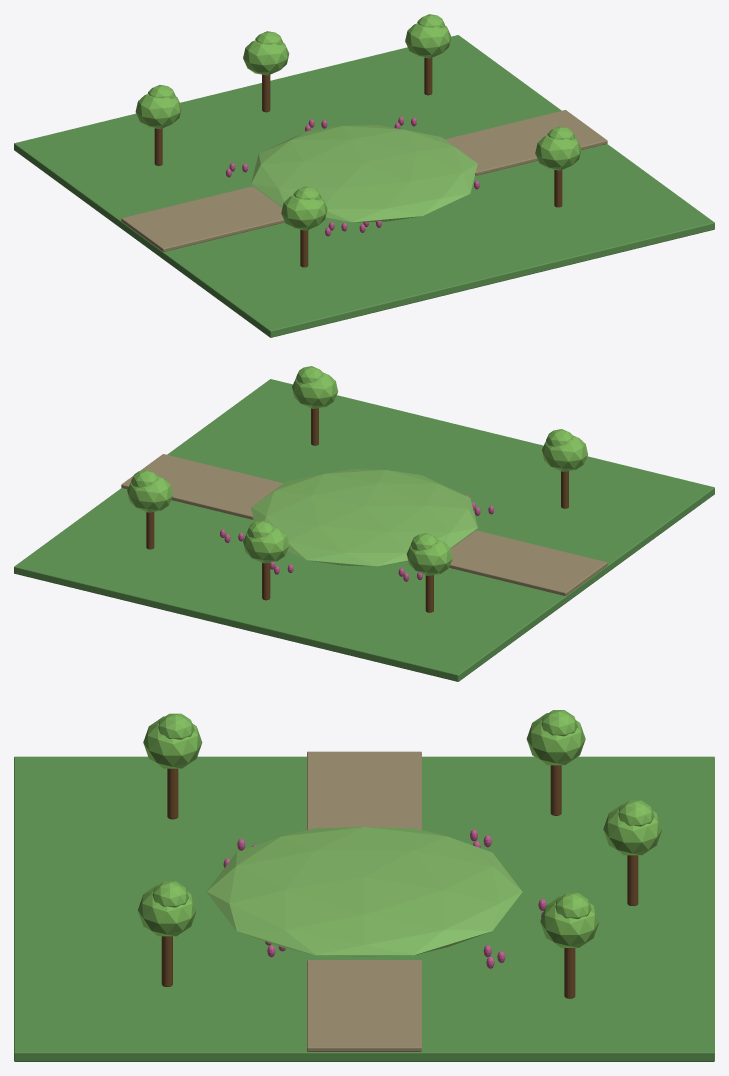
The model's file is chunk_meadow_b.fbx.
The picture shows the model from 3 angles, top to bottom: view 1: azimuth 30°, elevation 25°; view 2: azimuth 150°, elevation 25°; view 3: azimuth 270°, elevation 25°; orthographic projection. The views are drawn at different scales.
Parts seen in each view (by area): view 1: chunk_meadow_b; view 2: chunk_meadow_b; view 3: chunk_meadow_b.
Boxes of the visible parts, x1,y1,x2,y2 form: chunk_meadow_b: (14,14,714,337); chunk_meadow_b: (14,366,714,681); chunk_meadow_b: (14,710,714,1061).
Size of the model in its own units: 256 by 46.2 by 256.
